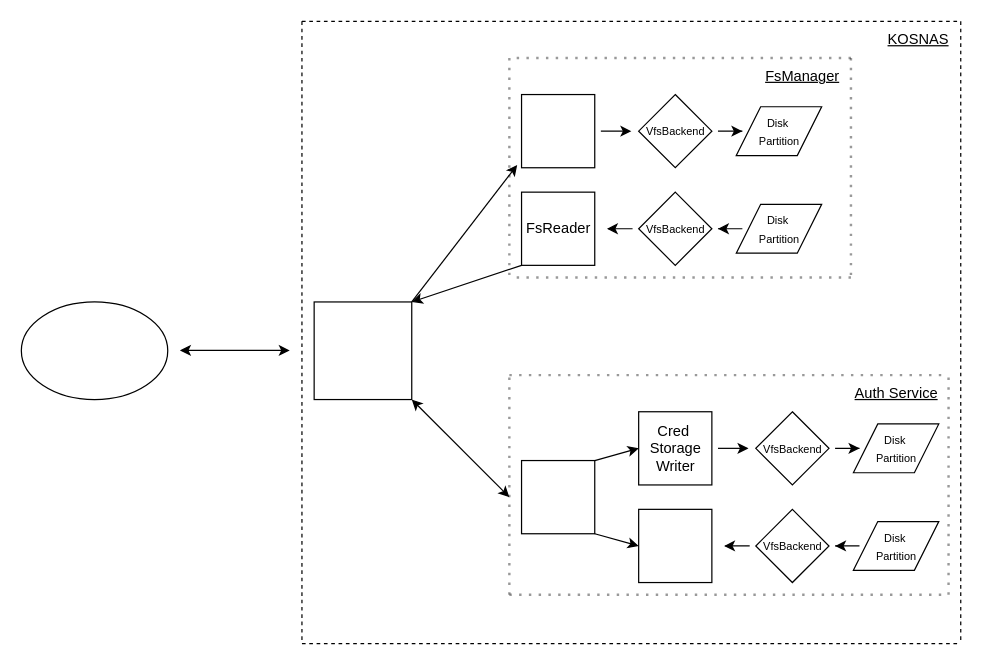
This 983x666 diagram has some shape labels left out. The shapes that lost their labels are listed below. From the top down, each one's box as (x1, y1, x2, y2) in pixels, then its label:
(520, 93, 595, 168): FsWriter
(20, 301, 168, 400): Client
(313, 301, 412, 400): Gateway
(520, 459, 595, 534): Auth Service Proxy
(637, 508, 712, 583): Cred Storage Reader
